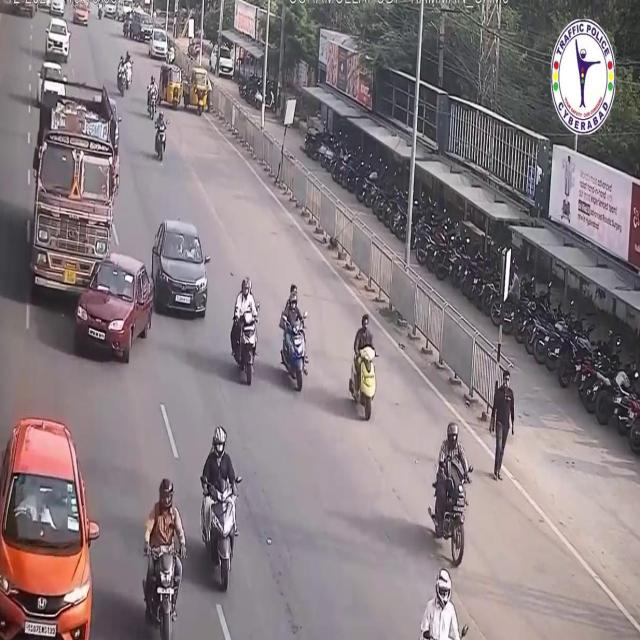accident: (29, 73, 154, 375)
non_accident: (123, 6, 177, 62), (113, 49, 135, 99)
